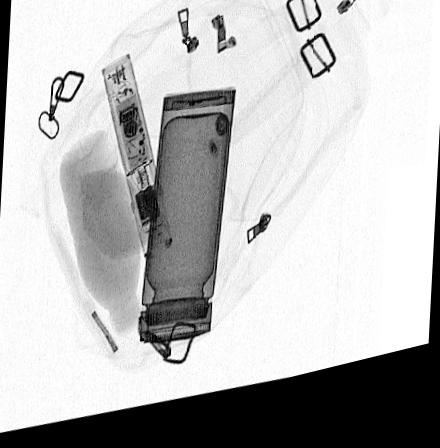Baton: (100, 56, 173, 270)
